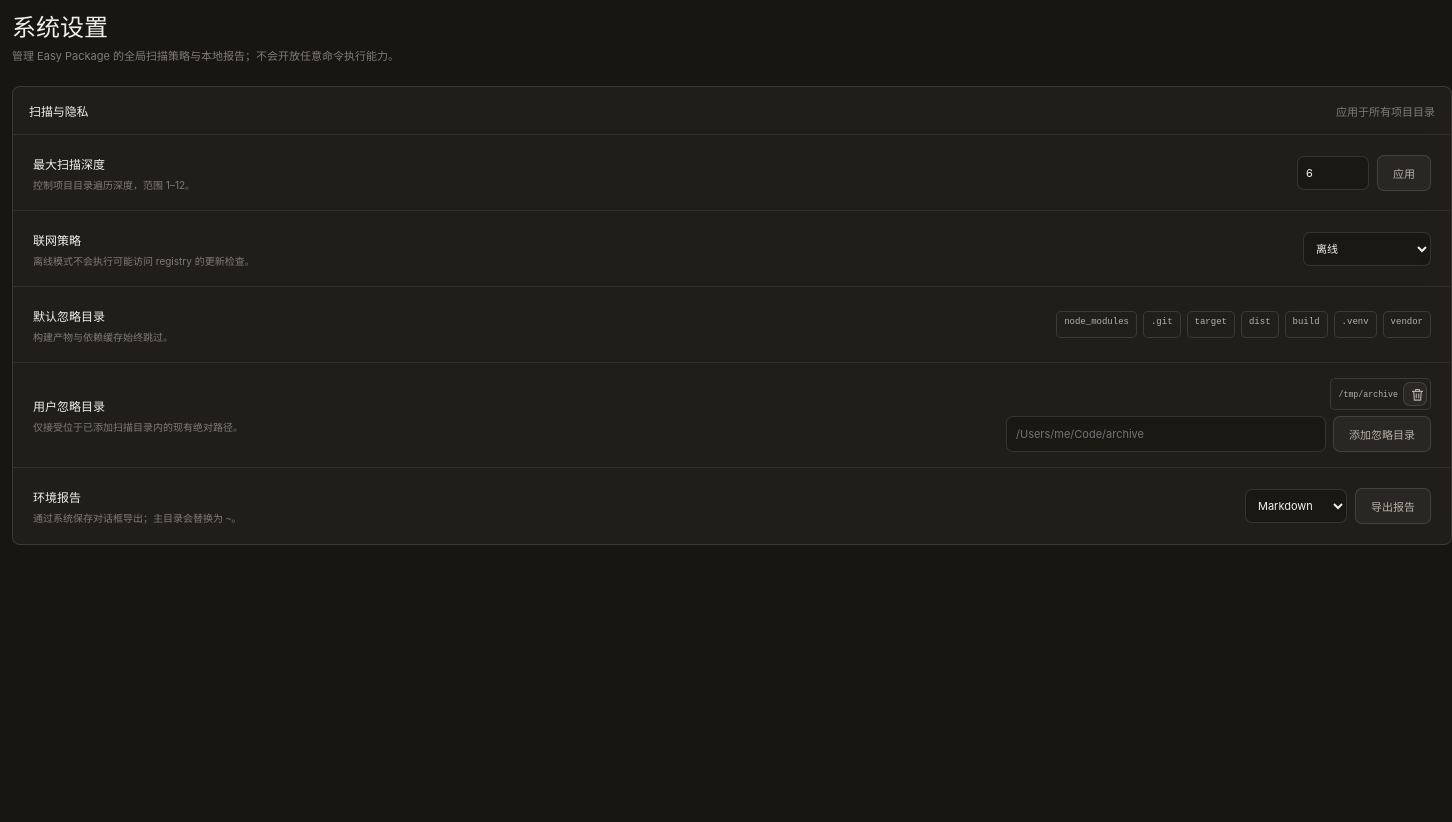
it: SettingsPage › 更新全局扫描设置
Expected: the text "node_modules" is shown, [1056, 311, 1137, 338]
Expected: the text "/tmp/archive" is shown, [1338, 390, 1398, 398]
Replace the text in the number field named "最大扫描深度" with "8". click: (1333, 172)
box: [1297, 156, 1369, 190]
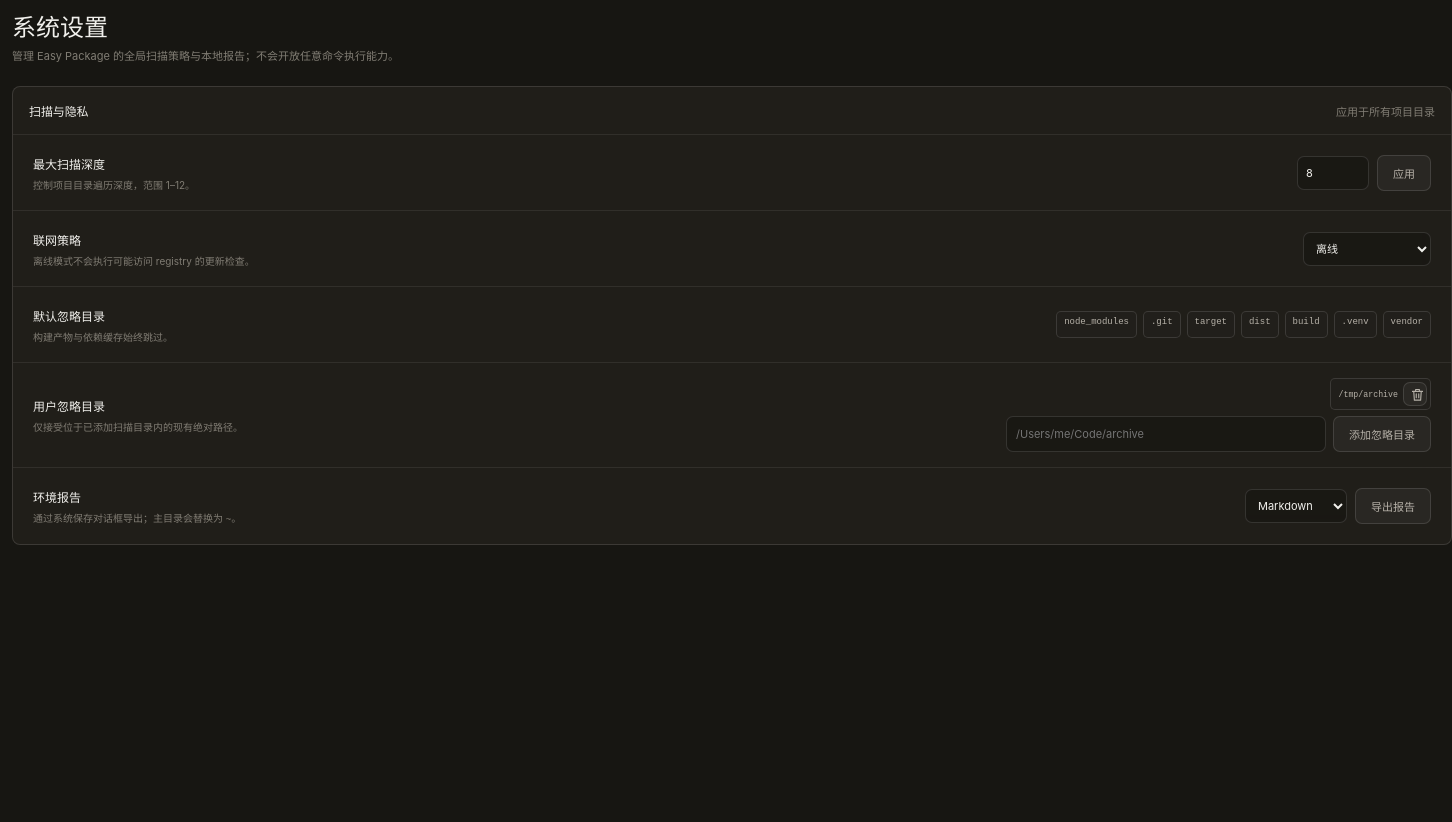
Click the button "应用". click: click(1404, 172)
box: [1377, 154, 1431, 190]
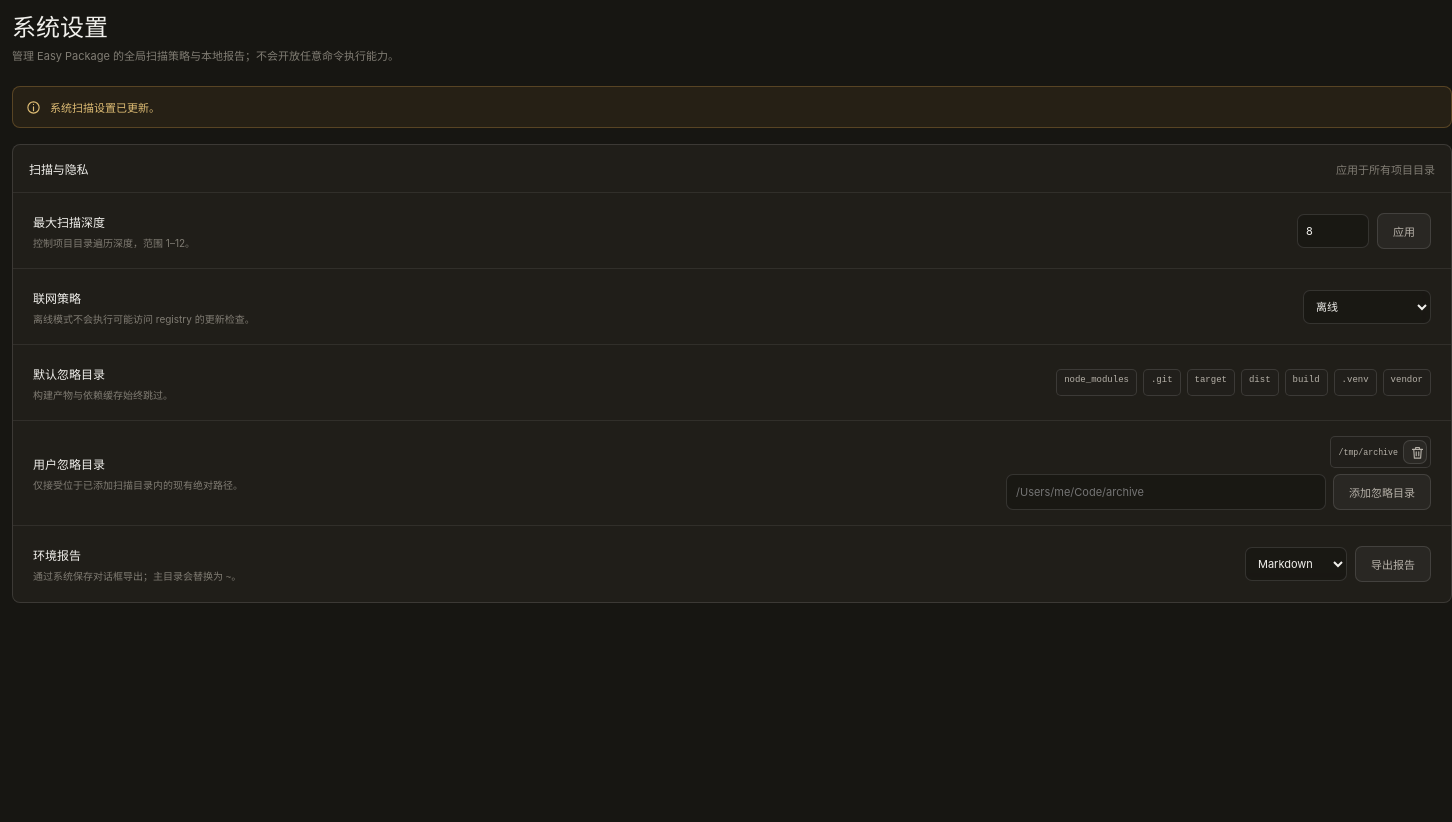
Now the text "系统扫描设置已更新。" is shown, box [50, 99, 160, 115]
